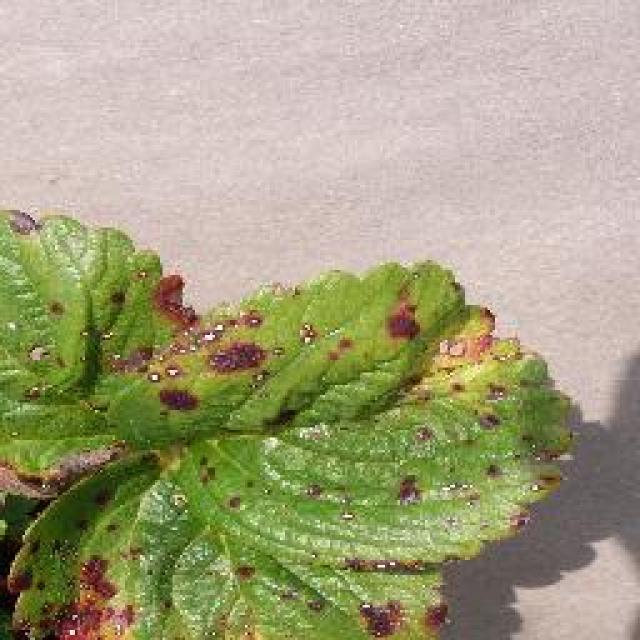Strawberry leaf scorch: (36, 261, 465, 640)
